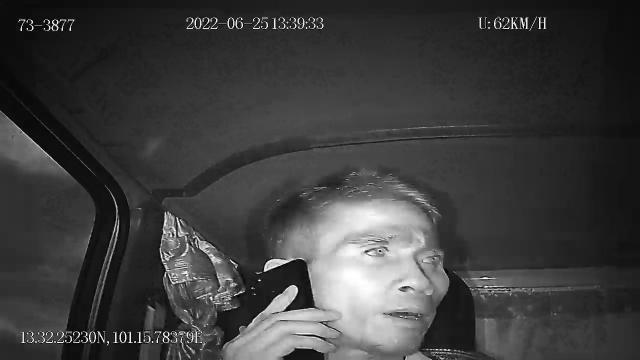PhoneUse: (246, 256, 324, 360)
SafeDriving: (353, 237, 398, 262), (411, 245, 448, 270)
